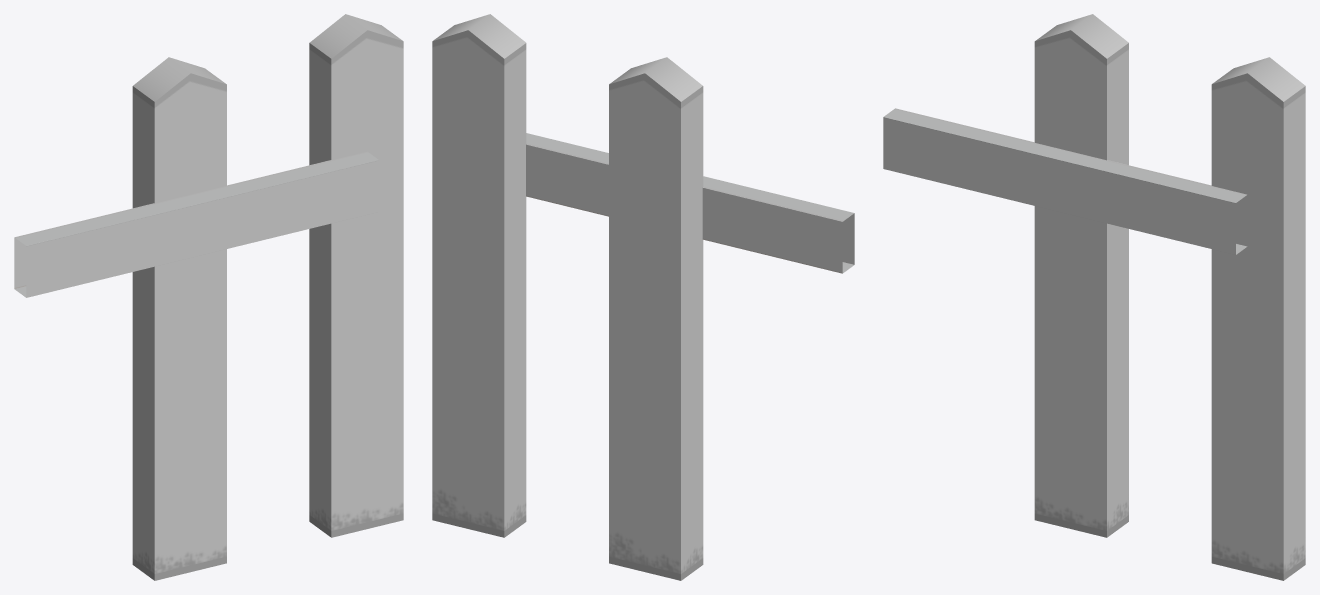
Rendered from city_white_picket_fence_03.fbx.
3 views of the same model, side by side, from view 1: azimuth 30°, elevation 25°; view 2: azimuth 150°, elevation 25°; view 3: azimuth 330°, elevation 25° (orthographic).
Visible parts, largest first — view 1: polySurface216; view 2: polySurface216; view 3: polySurface216.
Part boxes in pixels (x1,y1,x2,y2): polySurface216: (14, 14, 403, 580); polySurface216: (432, 14, 854, 580); polySurface216: (883, 14, 1305, 580).
Bounding box in the file's own units: 0.7716 × 0.9462 × 0.1155.
